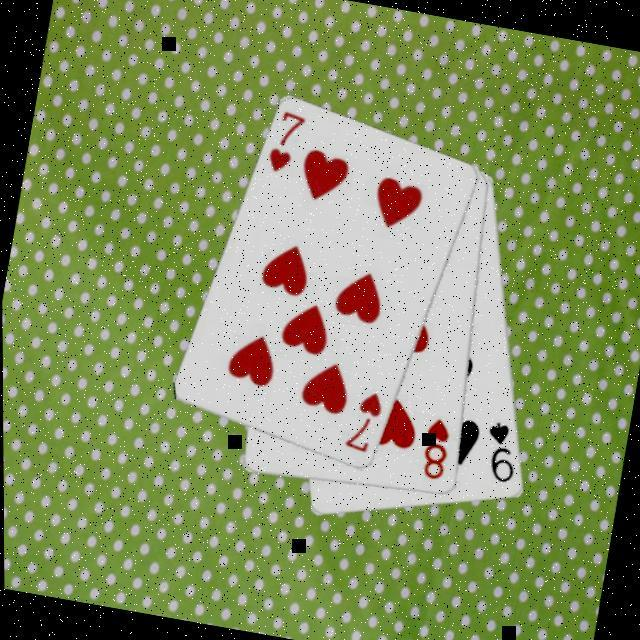7H: (340, 384, 388, 458), (264, 105, 310, 178)
8H: (414, 413, 456, 483)
9S: (477, 416, 526, 488)
